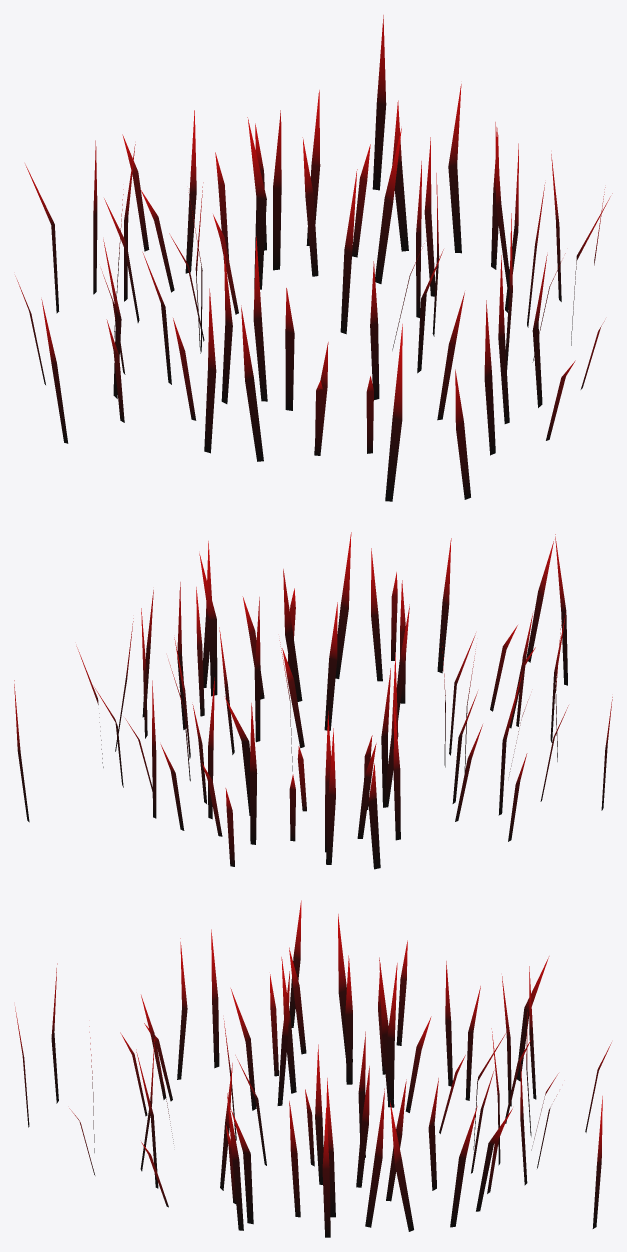
Rendered from PatchGrassTall04.fbx.
3 renders of one model, top to bottom at view 1: azimuth 30°, elevation 25°; view 2: azimuth 150°, elevation 25°; view 3: azimuth 270°, elevation 25°, orthographic. The views are drawn at different scales.
Parts seen in each view (by area): view 1: PatchGrassTall04_LOD0; view 2: PatchGrassTall04_LOD0; view 3: PatchGrassTall04_LOD0.
Part boxes in pixels (x1,y1,x2,y2): PatchGrassTall04_LOD0: (15, 15, 612, 501); PatchGrassTall04_LOD0: (14, 532, 612, 869); PatchGrassTall04_LOD0: (15, 900, 611, 1237).
Bounding box in the file's own units: 275 × 88.45 × 320.
